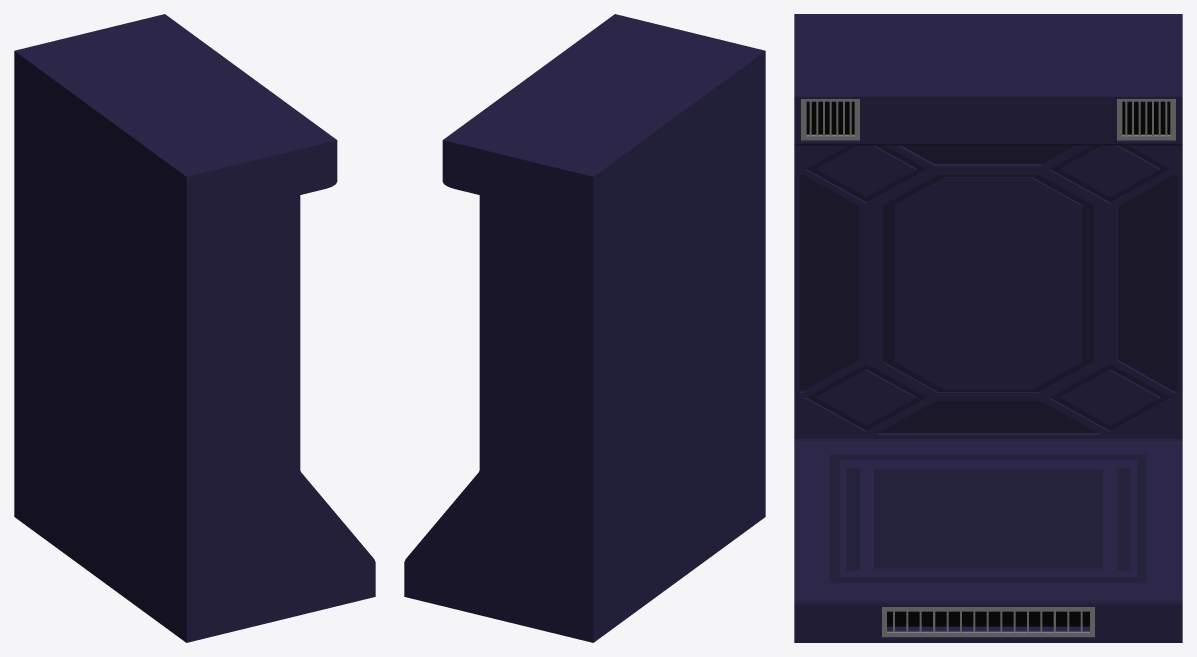
Rendered from Pared.fbx.
The picture shows the model from 3 angles, left to right: view 1: azimuth 30°, elevation 25°; view 2: azimuth 150°, elevation 25°; view 3: azimuth 270°, elevation 25°; orthographic projection. The views are drawn at different scales.
Visible parts, largest first — view 1: Pared; view 2: Pared; view 3: Pared.
Boxes of the visible parts, <box> form: Pared: <box>14,14,375,642</box>; Pared: <box>404,14,765,642</box>; Pared: <box>794,14,1182,642</box>.
Bounding box in the file's own units: 127 × 299 × 200.
